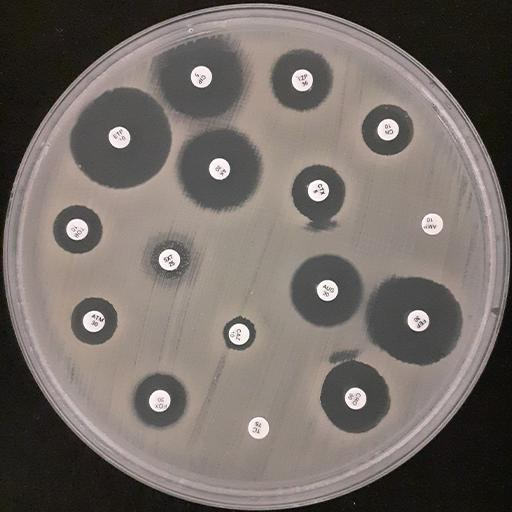disc: (190, 64, 214, 89), (147, 389, 172, 413), (343, 386, 368, 410), (376, 118, 400, 142), (107, 125, 131, 149), (306, 179, 330, 203), (65, 218, 89, 242), (406, 308, 430, 332), (81, 309, 105, 333), (246, 416, 270, 440), (314, 279, 339, 302), (290, 69, 314, 92), (208, 158, 232, 181), (420, 213, 444, 236), (157, 248, 181, 271), (227, 322, 250, 346)
